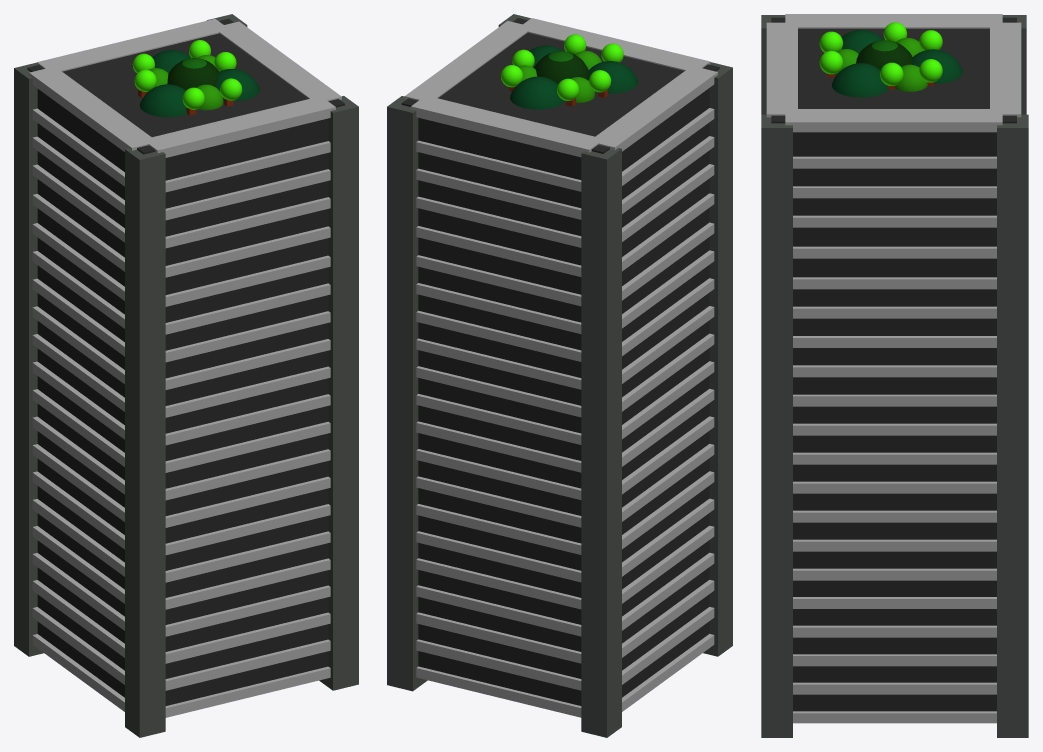
File: MainBuild_Black.fbx
3 renders of one model, left to right at view 1: azimuth 30°, elevation 25°; view 2: azimuth 150°, elevation 25°; view 3: azimuth 270°, elevation 25°, orthographic. The views are drawn at different scales.
Visible parts, largest first — view 1: pCube1, pasted__pasted__pasted__pasted__pasted__pasted__pasted__past (×31), pasted__pasted__pCube2, pasted__pCube2, pasted__pasted__pasted__pCube2, pasted__pasted__pasted__pCube3 (×2), pasted__pasted__pasted__pasted__pasted__pasted__pasted__pCub (×2), pasted__pasted__pasted__pasted__pasted__pCube3 (×2), pasted__pasted__pasted__pasted__pasted__pasted__pCube3 (×2), pasted__pasted__pasted__pasted__pCube3 (×2), pCube3, pasted__pCube3 (+4 smaller); view 2: pCube1, pasted__pasted__pasted__pasted__pasted__pasted__pasted__past (×30), pasted__pasted__pasted__pCube2, pCube2, pasted__pasted__pCube2, pasted__pasted__pasted__pasted__pCube3 (×2), pasted__pasted__pCube3 (×2), pasted__pasted__pasted__pasted__pasted__pasted__pCube3 (×2), pasted__pasted__pasted__pasted__pasted__pasted__pasted__pCub (×2), pasted__pasted__pasted__pCube3 (×2), pasted__pasted__pasted__pasted__pasted__pCube3 (×2), pCube3 (+4 smaller); view 3: pCube1, pasted__pasted__pasted__pasted__pasted__pasted__pasted__past (×20), pCube2, pasted__pCube2, pasted__pCube3, pasted__pasted__pCube3, pasted__pasted__pasted__pCube3, pasted__pasted__pasted__pasted__pCube3, pasted__pasted__pasted__pasted__pasted__pasted__pCube3, pasted__pasted__pasted__pasted__pasted__pasted__pasted__pCub, pasted__pasted__pasted__pasted__pasted__pCube3, pasted__pasted__pasted__pasted__pasted__pSphere1 (+5 smaller).
Boxes of the visible parts, x1=… form: pCube1: x1=27, y1=18, x2=344, y2=705; pasted__pasted__pasted__pasted__pasted__pasted__pasted__past (×31): x1=29, y1=19, x2=341, y2=582; pasted__pasted__pCube2: x1=125, y1=148, x2=165, y2=737; pasted__pCube2: x1=319, y1=96, x2=358, y2=690; pasted__pasted__pasted__pCube2: x1=14, y1=62, x2=43, y2=656; pasted__pasted__pasted__pCube3 (×2): x1=32, y1=553, x2=330, y2=717; pasted__pasted__pasted__pasted__pasted__pasted__pasted__pCub (×2): x1=32, y1=444, x2=330, y2=609; pasted__pasted__pasted__pasted__pasted__pCube3 (×2): x1=32, y1=499, x2=330, y2=663; pasted__pasted__pasted__pasted__pasted__pasted__pCube3 (×2): x1=32, y1=471, x2=330, y2=636; pasted__pasted__pasted__pasted__pCube3 (×2): x1=32, y1=526, x2=330, y2=690; pCube3: x1=32, y1=634, x2=124, y2=711; pasted__pCube3: x1=32, y1=607, x2=124, y2=684; pCube1: x1=401, y1=18, x2=719, y2=705; pasted__pasted__pasted__pasted__pasted__pasted__pasted__past (×30): x1=404, y1=18, x2=717, y2=554; pasted__pasted__pasted__pCube2: x1=581, y1=148, x2=621, y2=737; pCube2: x1=387, y1=96, x2=427, y2=691; pasted__pasted__pCube2: x1=703, y1=62, x2=732, y2=656; pasted__pasted__pasted__pasted__pCube3 (×2): x1=416, y1=525, x2=714, y2=663; pasted__pasted__pCube3 (×2): x1=416, y1=579, x2=714, y2=717; pasted__pasted__pasted__pasted__pasted__pasted__pCube3 (×2): x1=416, y1=471, x2=714, y2=609; pasted__pasted__pasted__pasted__pasted__pasted__pasted__pCub (×2): x1=416, y1=443, x2=714, y2=582; pasted__pasted__pasted__pCube3 (×2): x1=416, y1=552, x2=714, y2=690; pasted__pasted__pasted__pasted__pasted__pCube3 (×2): x1=416, y1=498, x2=714, y2=636; pCube3: x1=622, y1=634, x2=714, y2=711; pCube1: x1=771, y1=17, x2=1016, y2=711; pasted__pasted__pasted__pasted__pasted__pasted__pasted__past (×20): x1=766, y1=14, x2=1021, y2=522; pCube2: x1=997, y1=114, x2=1028, y2=737; pasted__pCube2: x1=761, y1=114, x2=792, y2=737; pasted__pCube3: x1=793, y1=711, x2=996, y2=723; pasted__pasted__pCube3: x1=793, y1=682, x2=996, y2=694; pasted__pasted__pasted__pCube3: x1=793, y1=654, x2=996, y2=666; pasted__pasted__pasted__pasted__pCube3: x1=793, y1=625, x2=996, y2=637; pasted__pasted__pasted__pasted__pasted__pasted__pCube3: x1=793, y1=568, x2=996, y2=580; pasted__pasted__pasted__pasted__pasted__pasted__pasted__pCub: x1=793, y1=539, x2=996, y2=551; pasted__pasted__pasted__pasted__pasted__pCube3: x1=793, y1=597, x2=996, y2=608; pasted__pasted__pasted__pasted__pasted__pSphere1: x1=831, y1=63, x2=888, y2=97.
Bounding box in the file's own units: 8.48 × 22.45 × 8.49.
